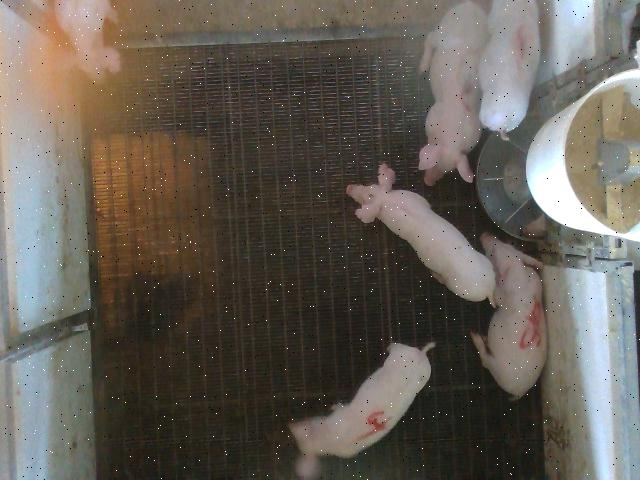pig-1: (478, 1, 539, 139)
pig-3: (419, 2, 486, 185)
pig-4: (290, 342, 435, 478)
pig-5: (471, 233, 546, 400)
